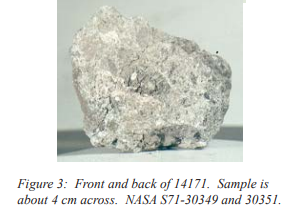Breccia: (58, 1, 232, 161)
